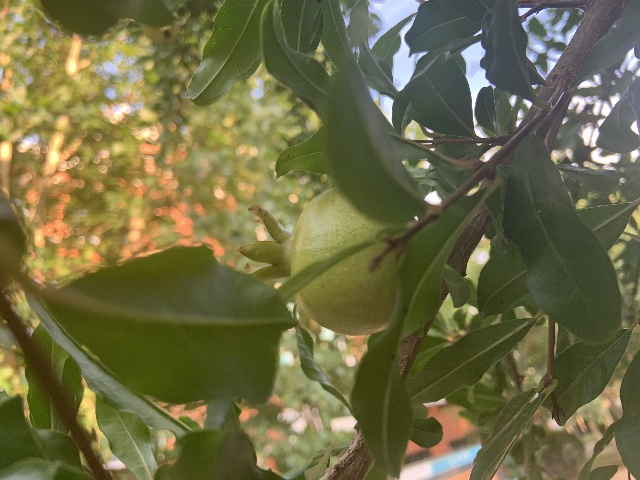mid-growth: (235, 189, 401, 334)
